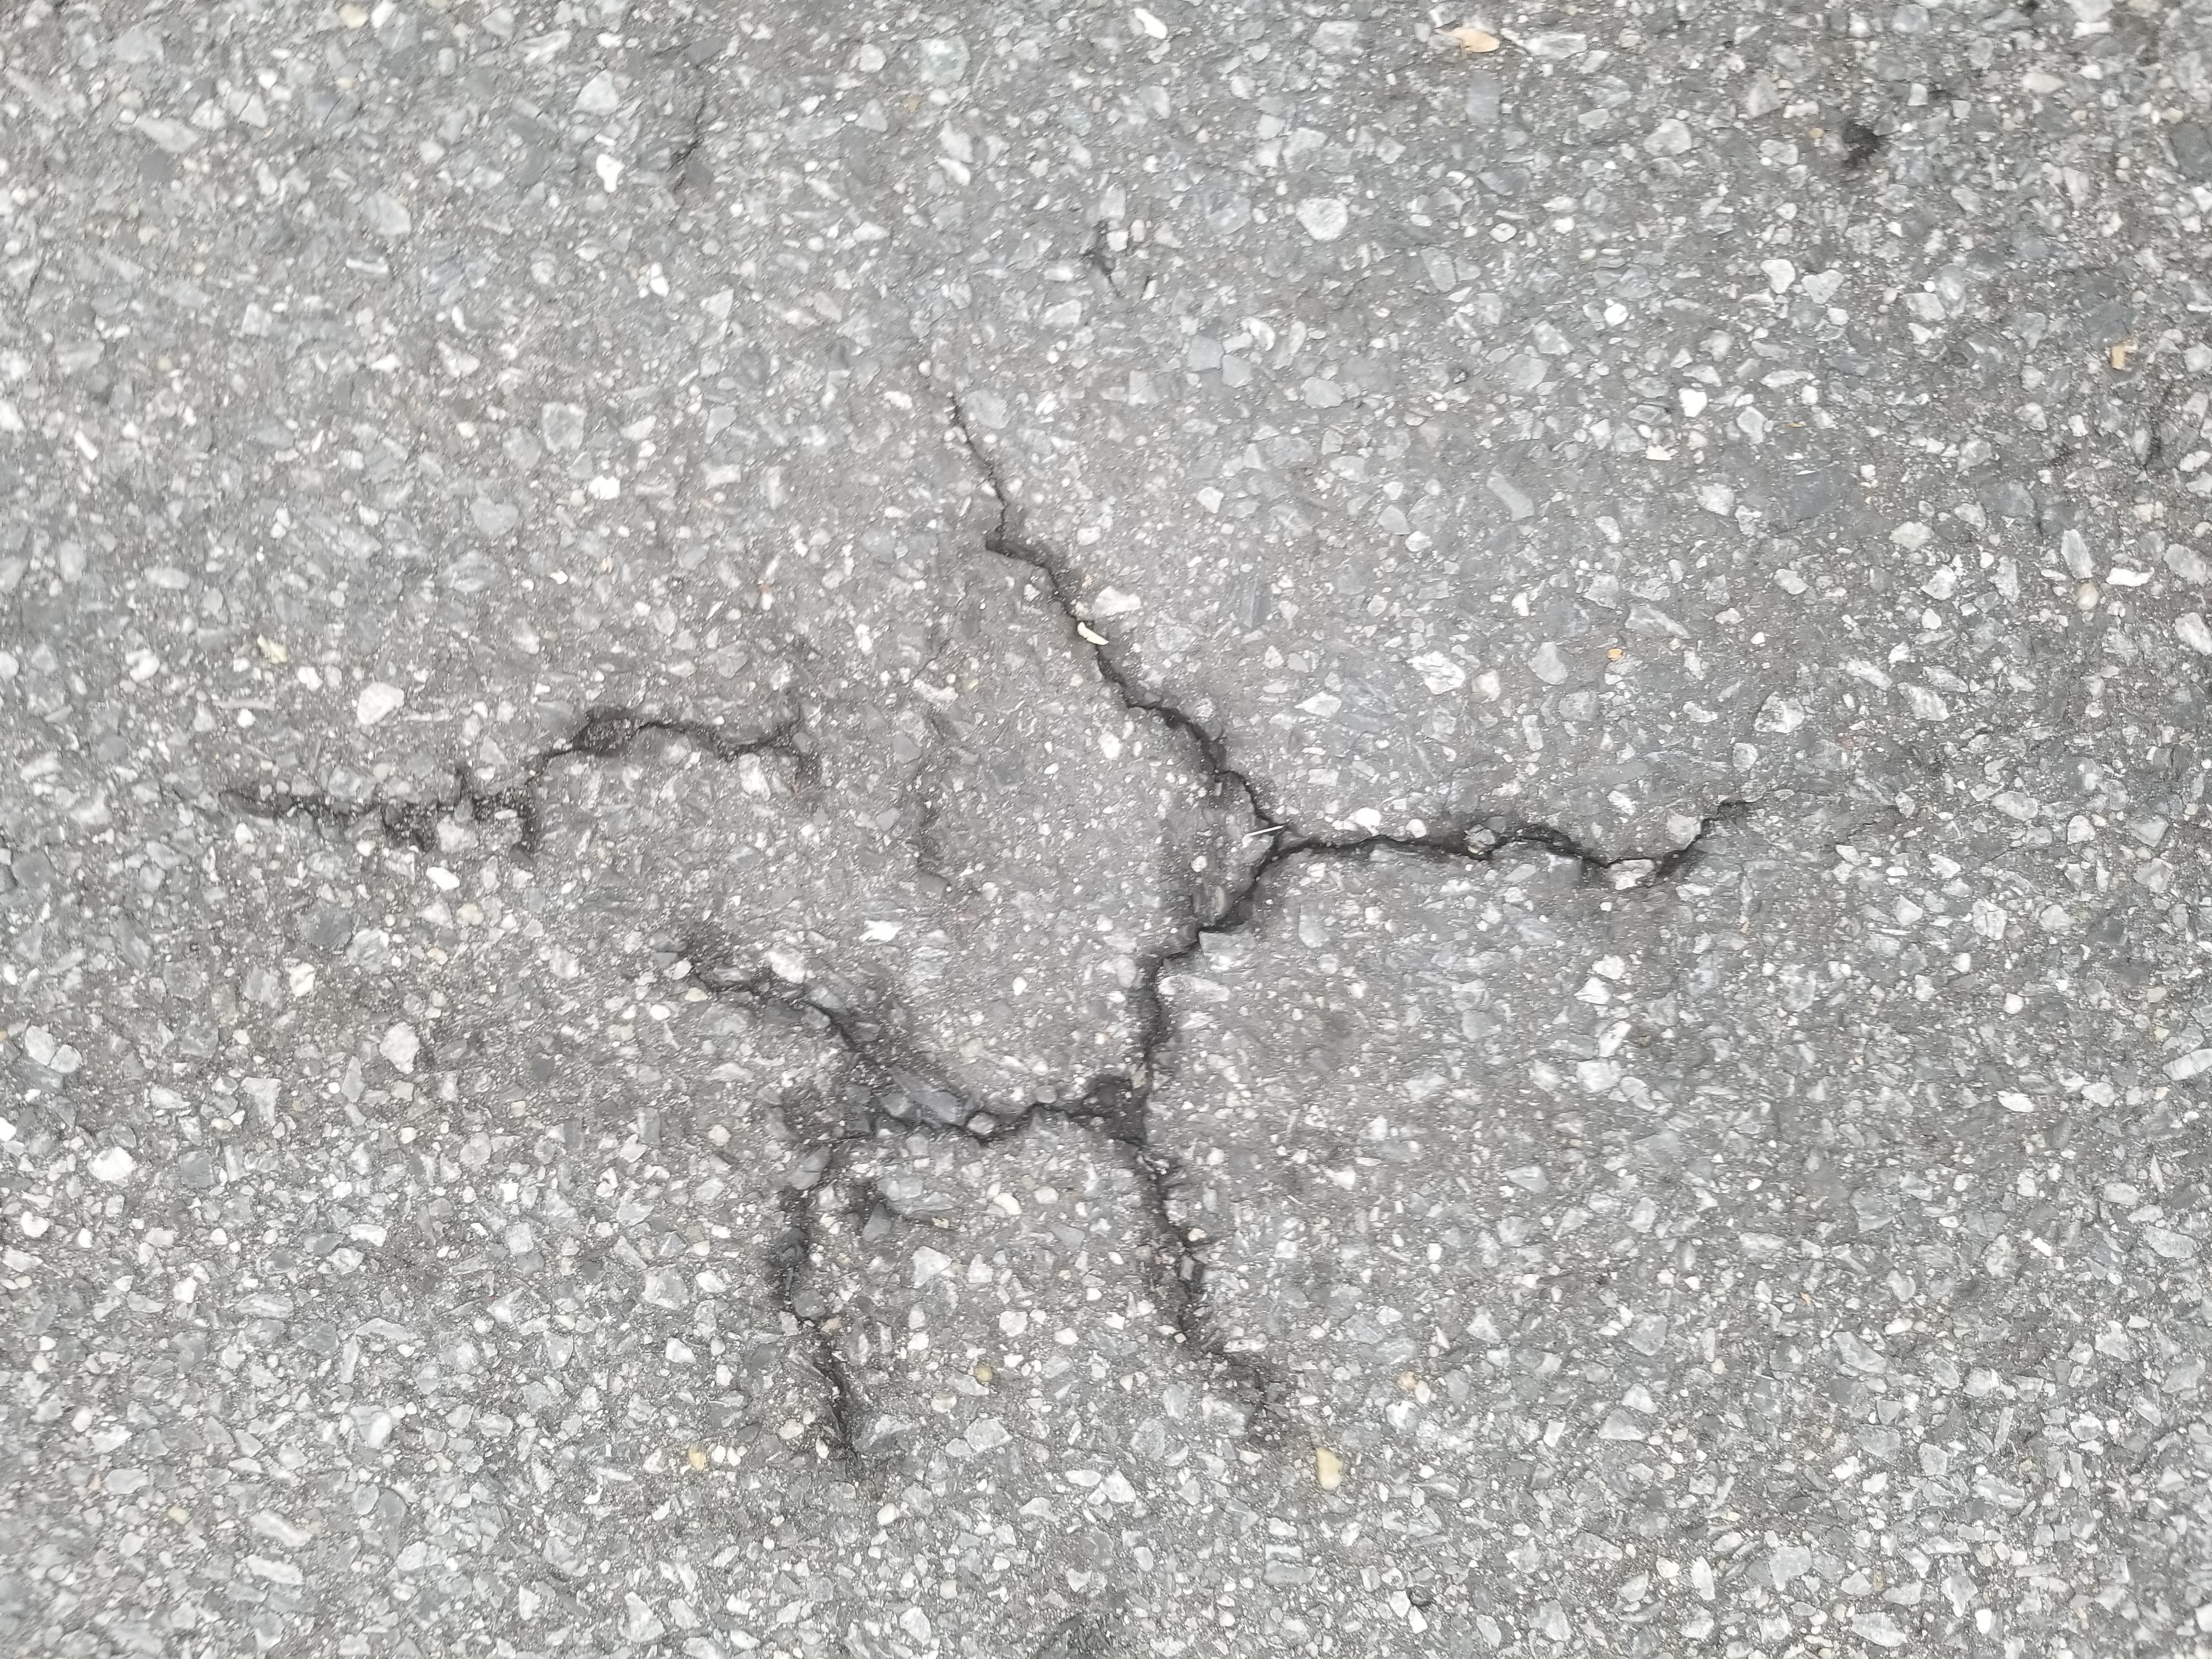crack: (129, 502, 1693, 1317), (1021, 174, 1318, 610)
